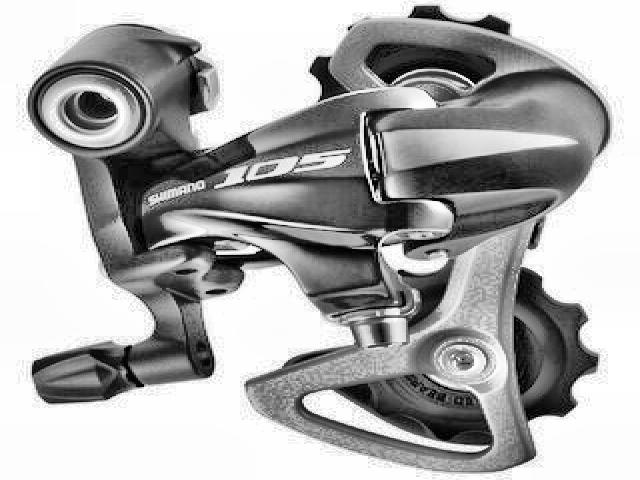rear_derailleur: (20, 5, 601, 477)
